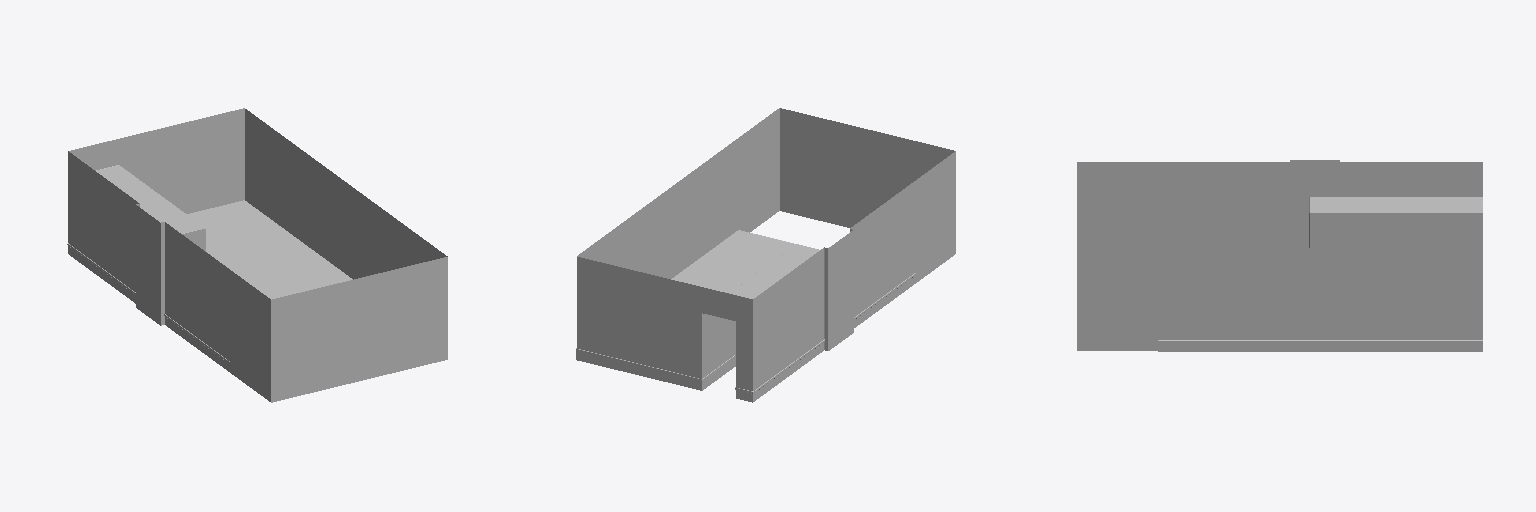
Rendered from trap.obj.
3 renders of one model, left to right at view 1: azimuth 30°, elevation 25°; view 2: azimuth 150°, elevation 25°; view 3: azimuth 270°, elevation 25°, orthographic.
Parts seen in each view (by area): view 1: Piece1; view 2: Piece1; view 3: Piece1.
Boxes of the visible parts, x1,y1,x2,y2 form: Piece1: [67, 108, 447, 402]; Piece1: [576, 108, 955, 402]; Piece1: [1077, 160, 1482, 351].
Bounding box in the file's own units: 4.17 × 2.28 × 8.12.